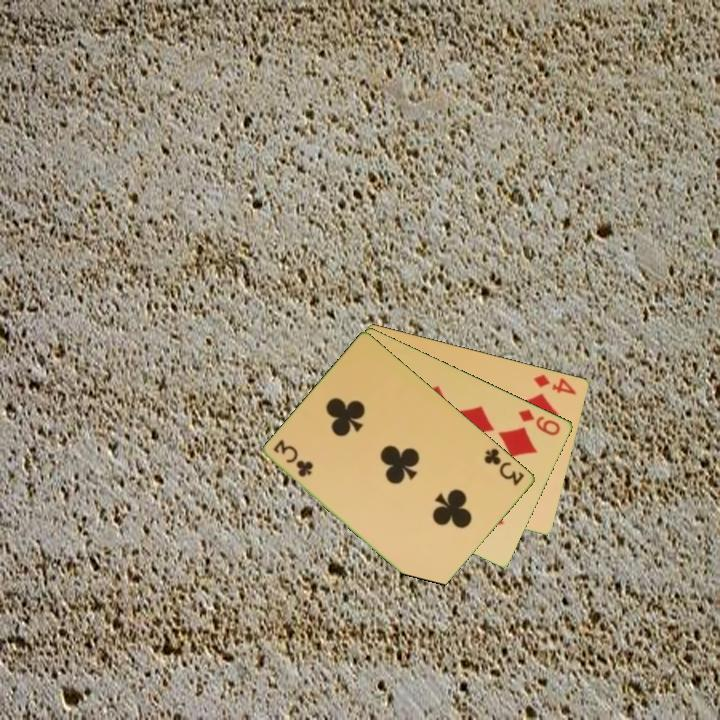3c: (481, 445, 528, 489), (270, 436, 316, 480)
4d: (530, 371, 580, 397)
9d: (515, 405, 564, 438)
